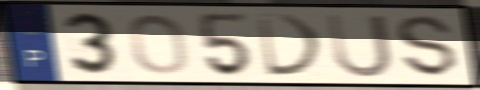3: (60, 10, 121, 76)
5: (194, 11, 255, 79)
D: (254, 11, 327, 79)
O: (126, 12, 191, 76)
S: (395, 14, 461, 80)
U: (323, 12, 396, 80)
